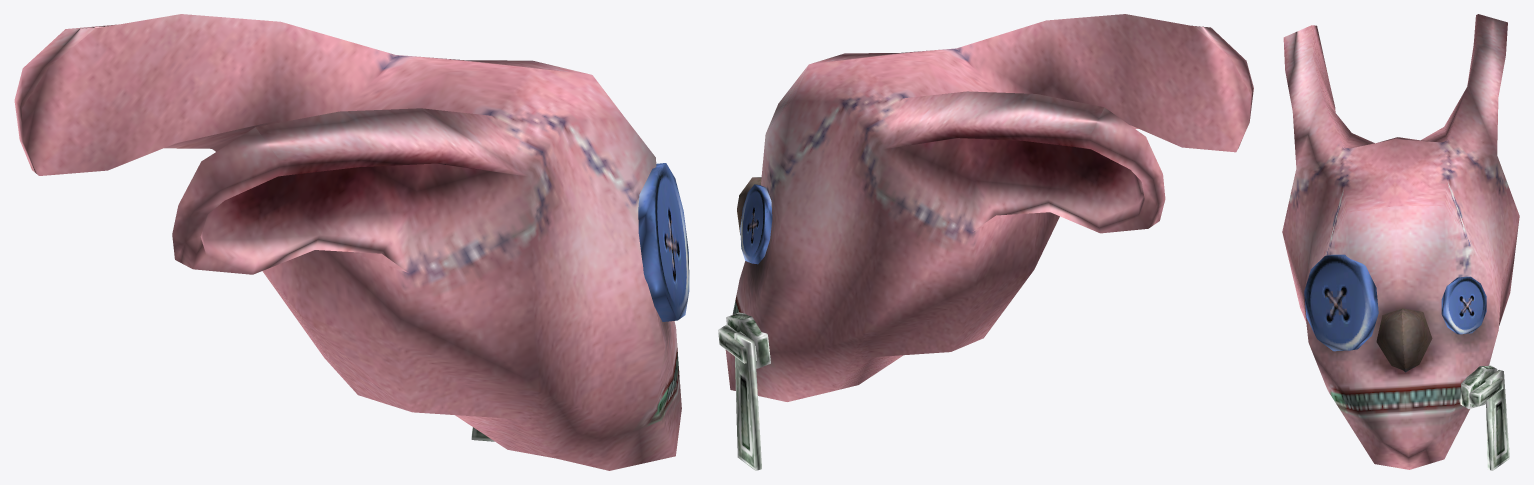
Rendered from Robot01.Head5.fbx.
The picture shows the model from 3 angles, left to right: view 1: azimuth 30°, elevation 25°; view 2: azimuth 150°, elevation 25°; view 3: azimuth 270°, elevation 25°; orthographic projection. The views are drawn at different scales.
Visible parts, largest first — view 1: mesh_1216; view 2: mesh_1216; view 3: mesh_1216.
Boxes of the visible parts, x1,y1,x2,y2 form: mesh_1216: [14, 14, 689, 470]; mesh_1216: [718, 14, 1253, 470]; mesh_1216: [1282, 14, 1519, 470].
Size of the model in its own units: 63.36 by 54.27 by 35.91.
